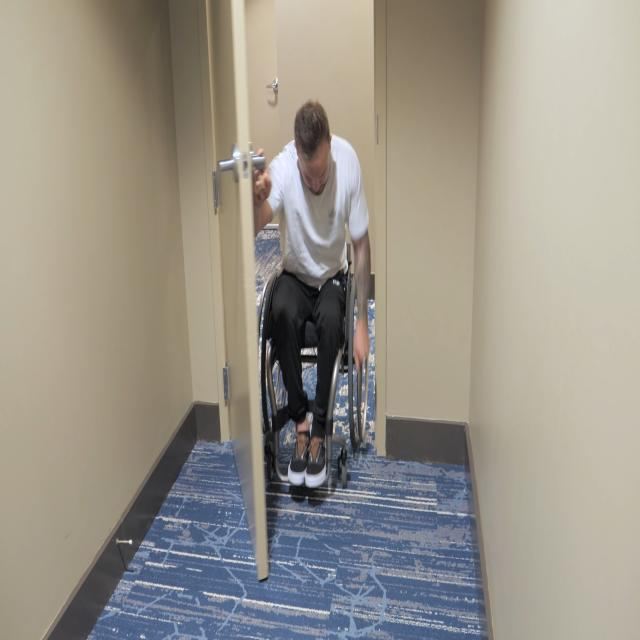wheelchairs: (248, 231, 374, 497)
